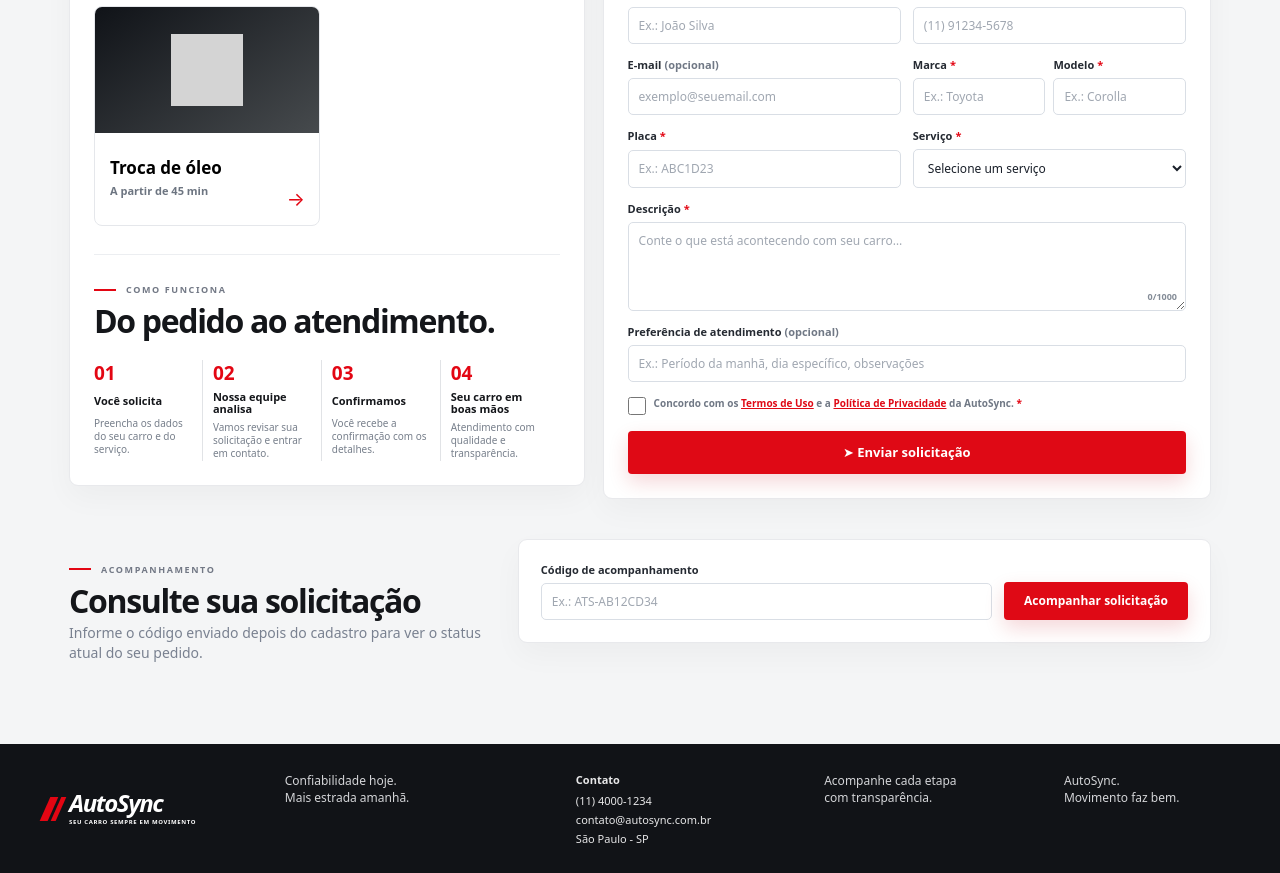
Test: visitor sees browser validation and no request is sent with missing fields
(page scrolled)
Click the button "➤ Enviar solicitação". click: (907, 452)
box: [628, 431, 1186, 474]
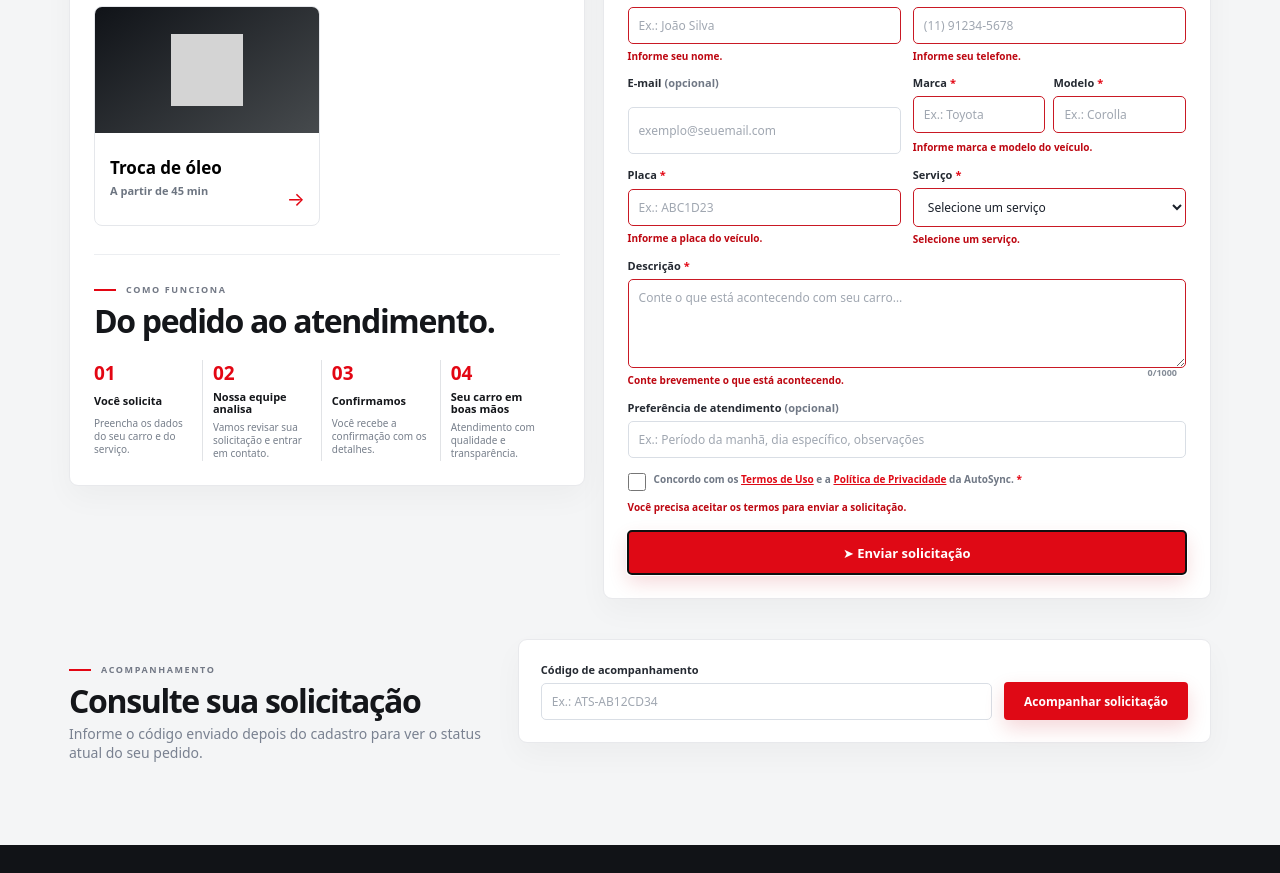
Expected: the text "Informe seu nome." is shown, [628, 49, 722, 63]
Expected: the text "Selecione um serviço." is shown, [913, 232, 1020, 246]
Expected: the text "Você precisa aceitar os termos para enviar a solicitação." is shown, [628, 500, 906, 514]
